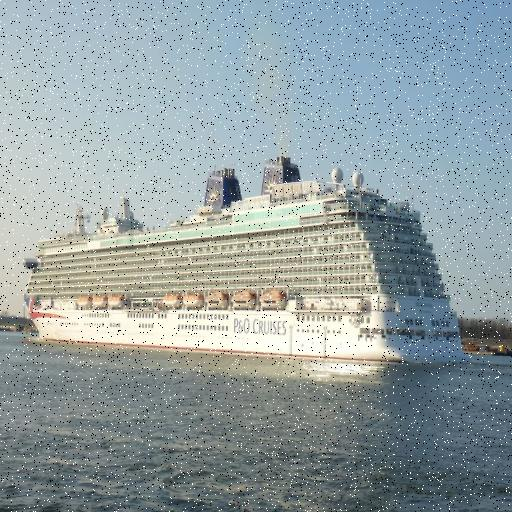cruises: (17, 153, 474, 376)
